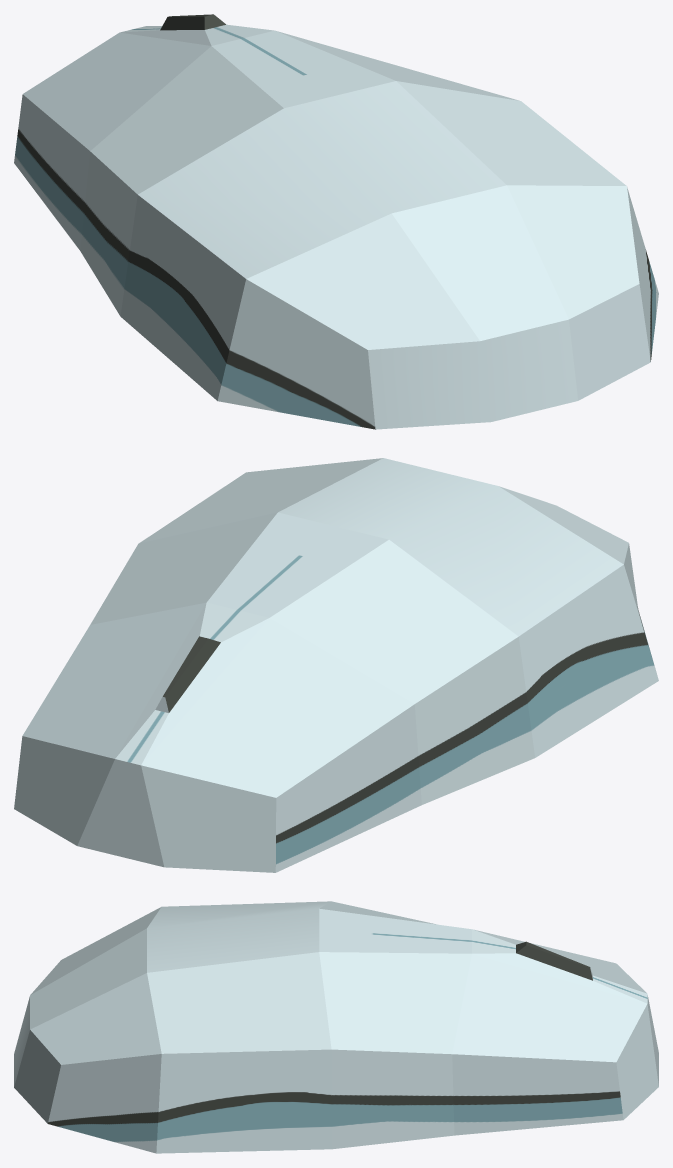
The model's file is Rato.FBX.
3 renders of one model, top to bottom at view 1: azimuth 30°, elevation 25°; view 2: azimuth 150°, elevation 25°; view 3: azimuth 270°, elevation 25°, orthographic. The views are drawn at different scales.
Visible parts, largest first — view 1: Box013; view 2: Box013; view 3: Box013.
Part boxes in pixels (x1=…): Box013: x1=14, y1=14, x2=658, y2=429; Box013: x1=14, y1=458, x2=658, y2=872; Box013: x1=14, y1=901, x2=658, y2=1153.
Bounding box in the file's own units: 38.95 × 14.87 × 62.23.
